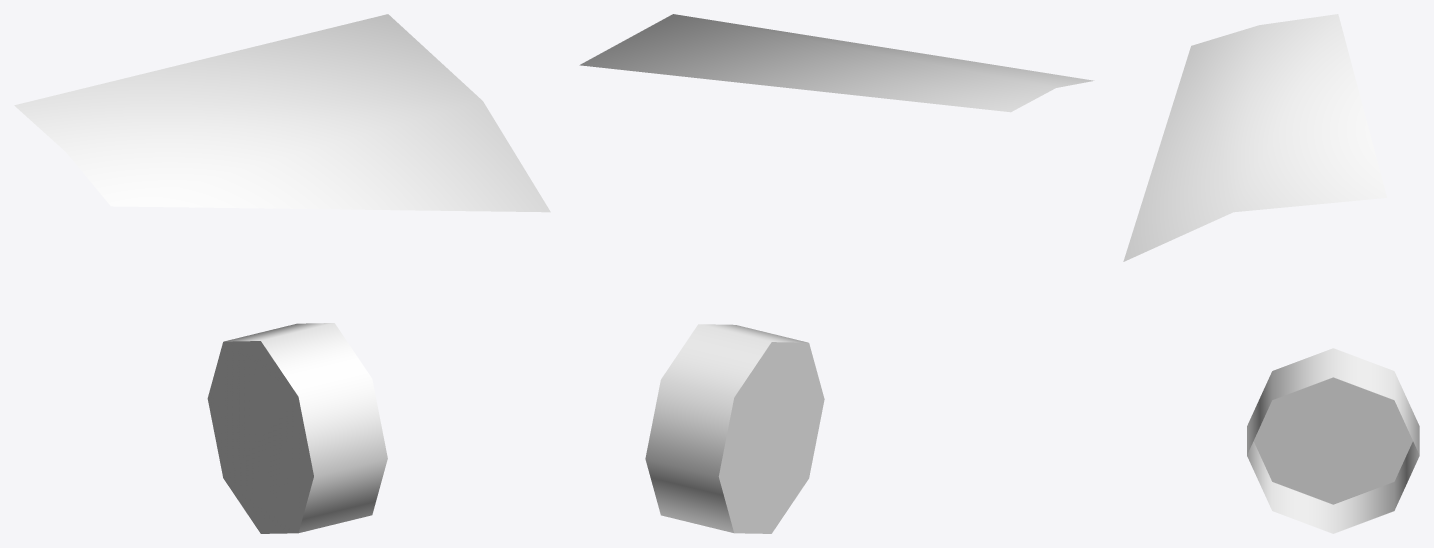
3 views of the same model, side by side, from view 1: azimuth 30°, elevation 25°; view 2: azimuth 150°, elevation 25°; view 3: azimuth 270°, elevation 25° (orthographic). The views are drawn at different scales.
Size of the model in its own units: 0.3286 by 0.3772 by 0.2572.
Materials: 1 (1 with a texture image).
